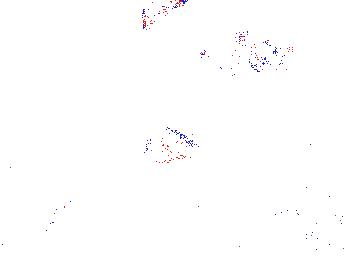X-ray fish: (144, 124, 199, 163)
glassfish: (118, 139, 231, 204), (196, 47, 259, 77), (234, 29, 288, 60)
redtail glassfish: (138, 1, 192, 30)
